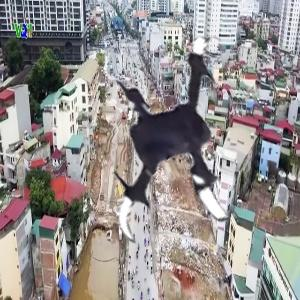drone: (73, 37, 298, 262)
